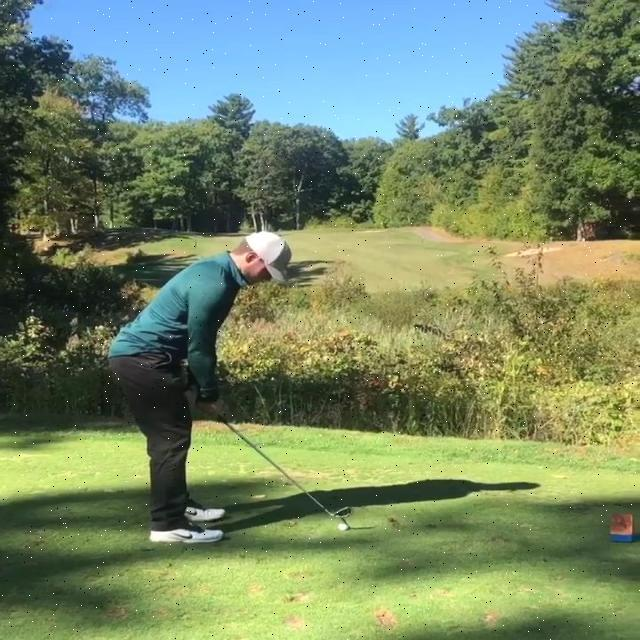golf ball: (338, 523, 350, 531)
golf club-handle: (214, 411, 353, 518)
golf club-head: (332, 507, 353, 519)
